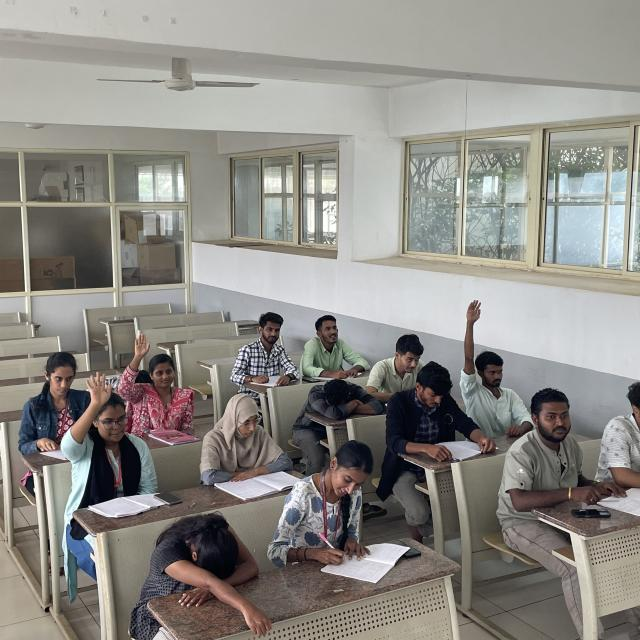Hand Rising: (67, 368, 155, 498), (456, 297, 526, 427), (121, 331, 192, 424)
Reading: (194, 389, 307, 489)
Sleeping: (144, 511, 259, 597), (295, 371, 383, 424)
Writing: (270, 439, 396, 572), (390, 365, 493, 468), (227, 306, 307, 386), (302, 313, 368, 383)
